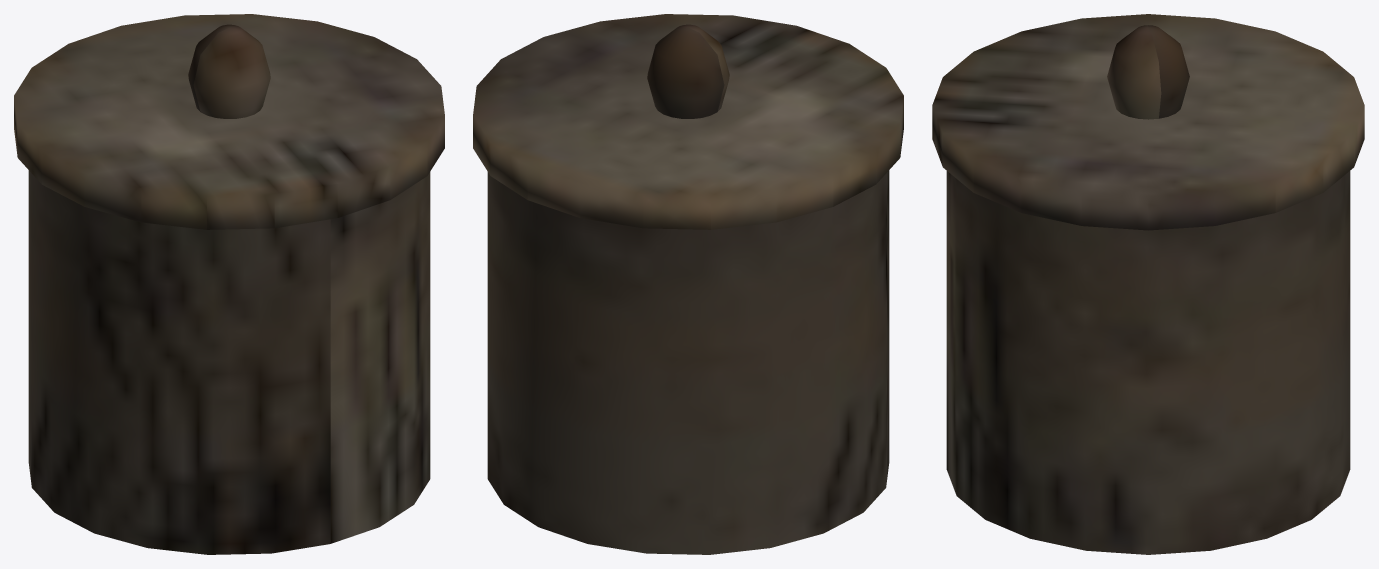
File: jar.fbx
3 renders of one model, left to right at view 1: azimuth 30°, elevation 25°; view 2: azimuth 150°, elevation 25°; view 3: azimuth 270°, elevation 25°, orthographic.
Parts seen in each view (by area): view 1: Strove.008; view 2: Strove.008; view 3: Strove.008.
Boxes of the visible parts, x1=… form: Strove.008: x1=14, y1=14, x2=444, y2=554; Strove.008: x1=473, y1=14, x2=903, y2=554; Strove.008: x1=932, y1=14, x2=1364, y2=554.
Bounding box in the file's own units: 13.53 × 15.24 × 13.53.
1 material, 1 textured.
